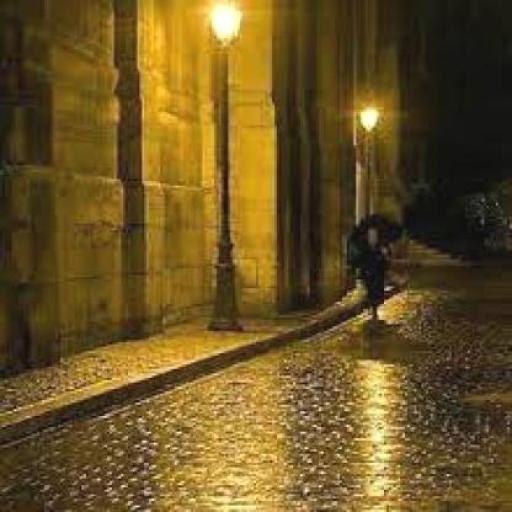street light: (207, 8, 242, 328)
